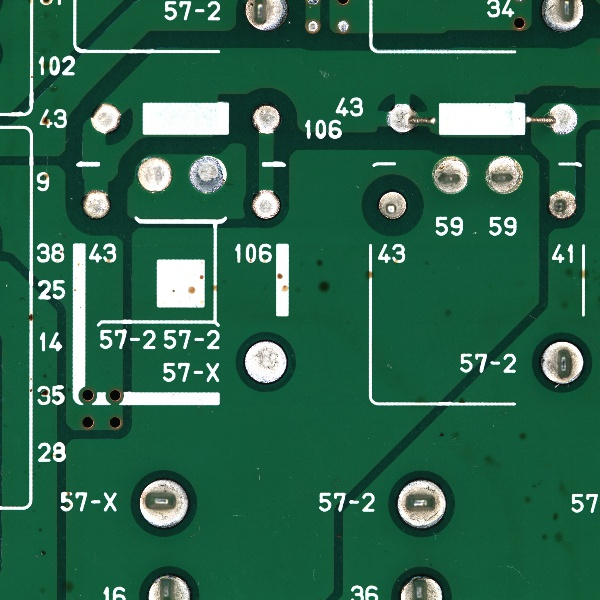Circle: (393, 476, 449, 532), (136, 474, 192, 530), (537, 339, 587, 386), (241, 337, 290, 384), (428, 153, 471, 195), (483, 153, 525, 196), (132, 153, 176, 193), (186, 153, 229, 193), (78, 185, 115, 222), (543, 188, 580, 225), (87, 99, 124, 135), (543, 102, 580, 138), (384, 99, 421, 135), (246, 99, 283, 135), (373, 186, 410, 222), (247, 185, 285, 220)
